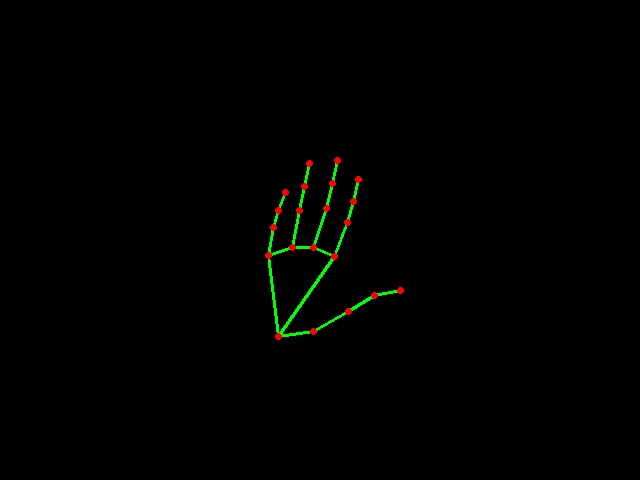stop: (255, 136, 422, 347)
